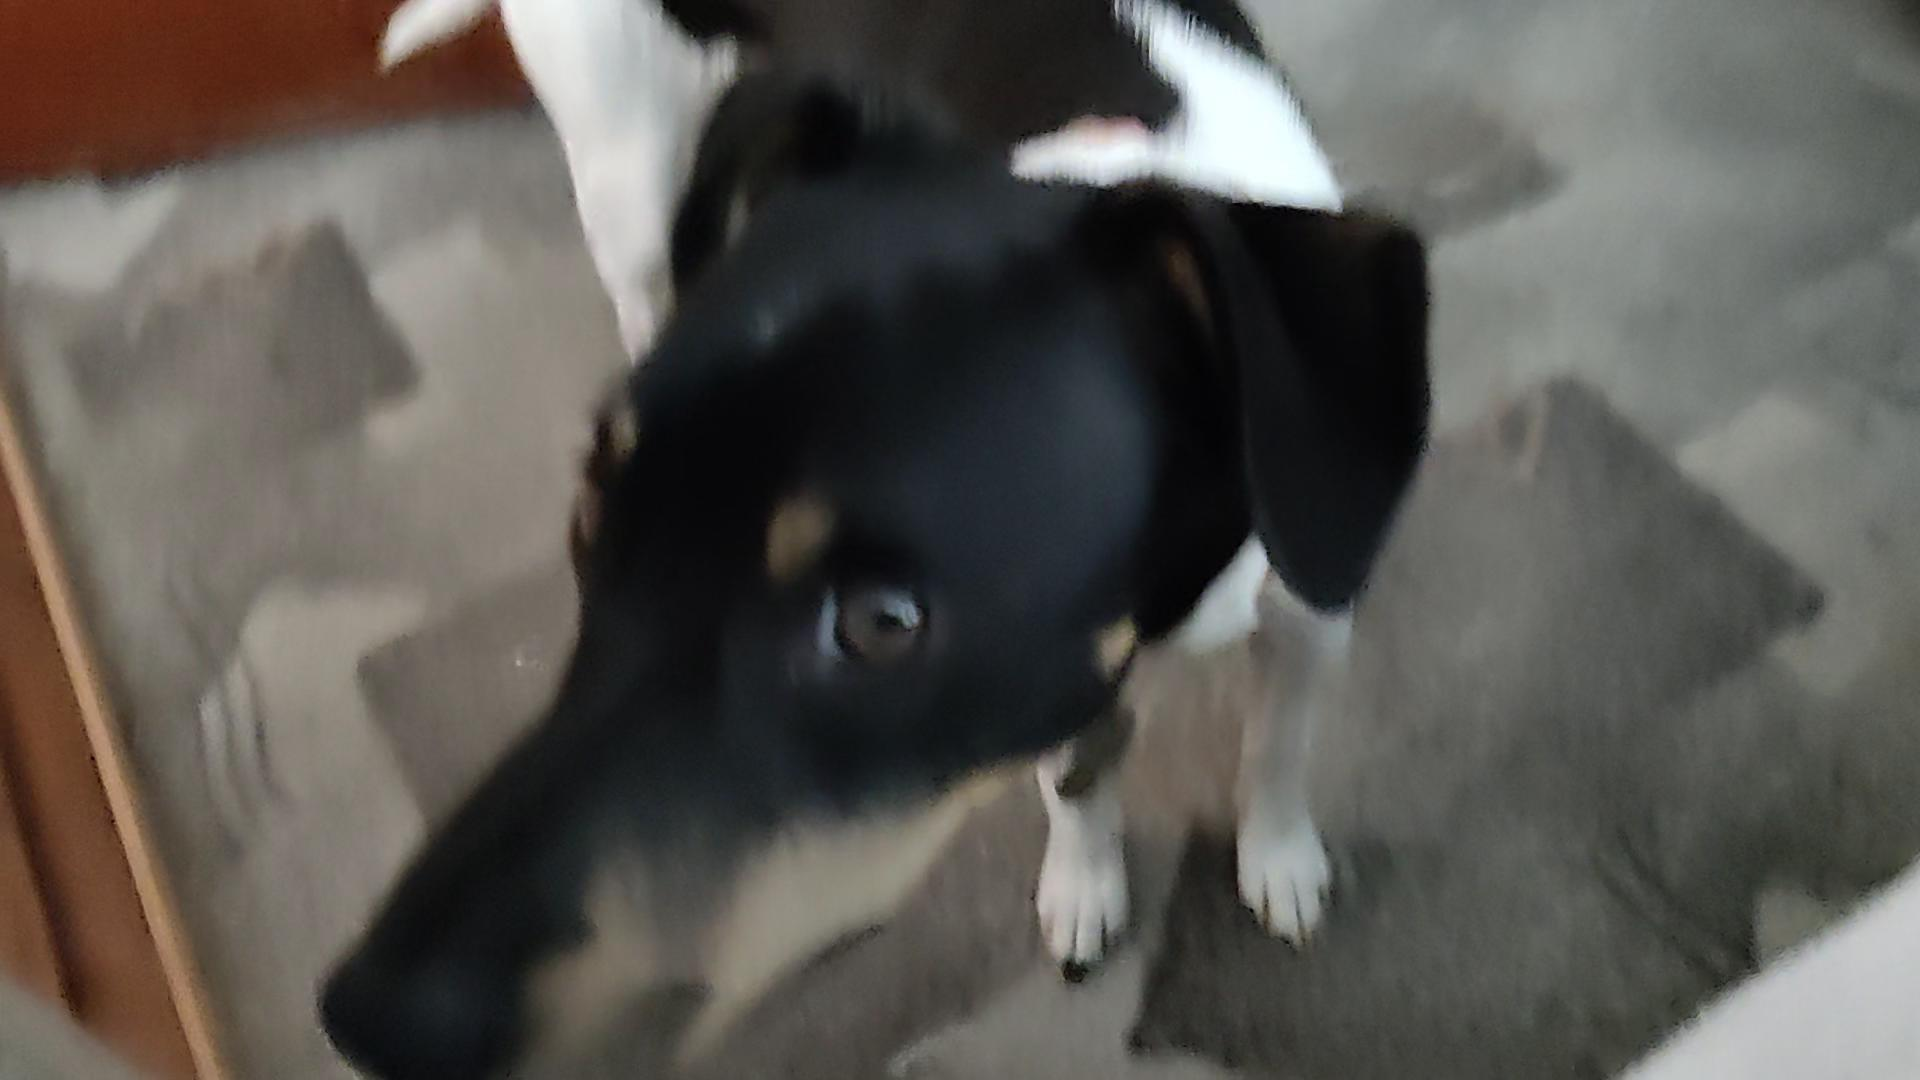Dog: (295, 0, 1456, 1080)
